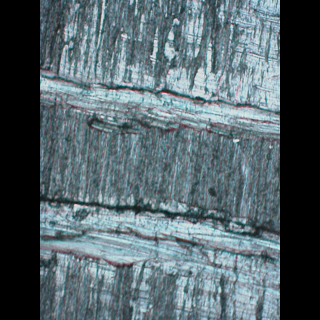d: (40, 0, 279, 146), (40, 190, 279, 319)
